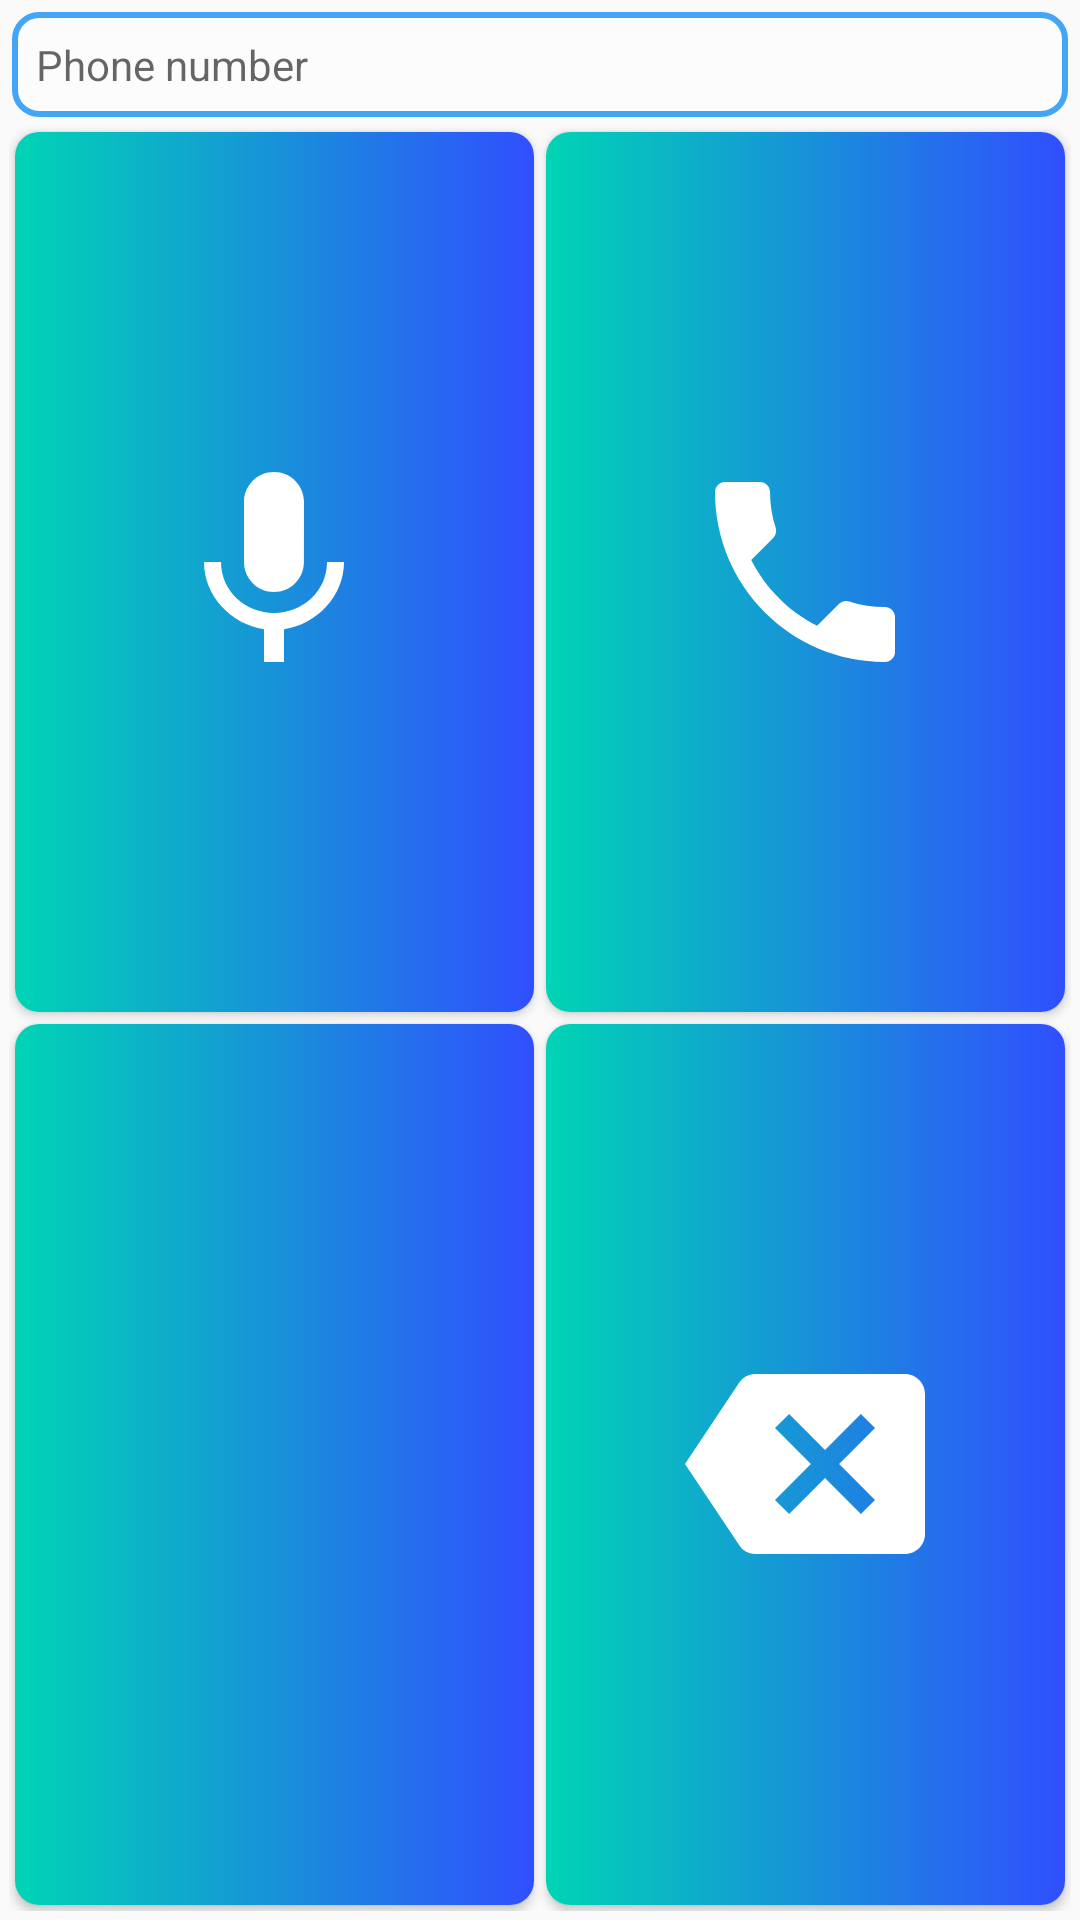

Named icons in this screenshot (1080w x 1920h) and their centers, [x,y]:
backspace: [805,1464]
call: [805,572]
mic: [274,572]
